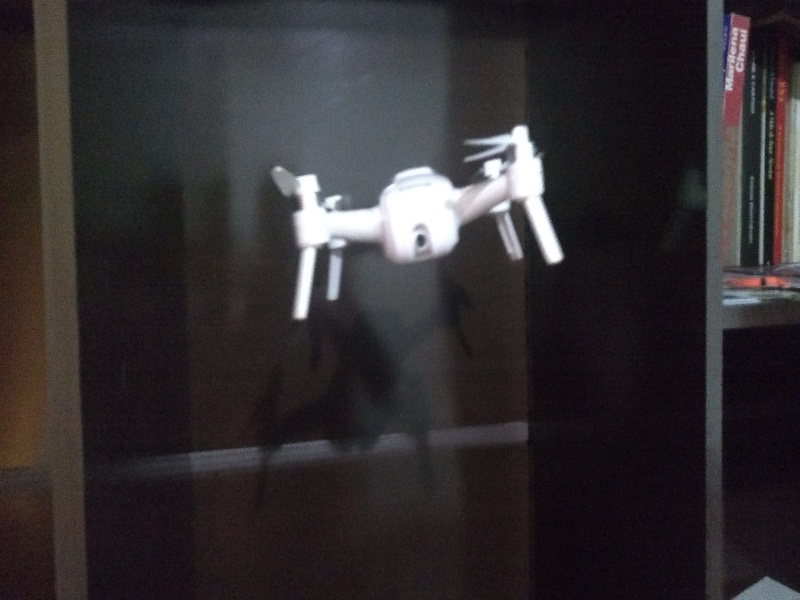drone: (249, 121, 575, 323)
